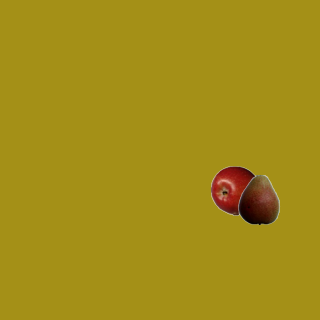Apple Braeburn: (210, 165, 260, 215)
Pear Forelle: (233, 174, 283, 224)
